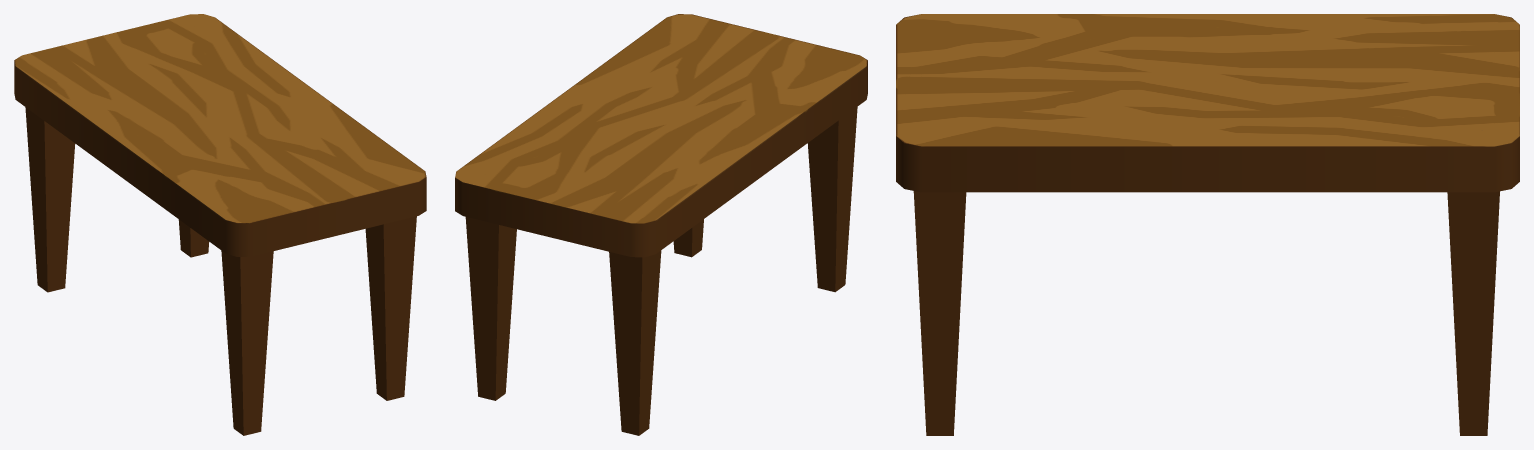
File: Table.fbx
3 renders of one model, left to right at view 1: azimuth 30°, elevation 25°; view 2: azimuth 150°, elevation 25°; view 3: azimuth 270°, elevation 25°, orthographic. The views are drawn at different scales.
Visible parts, largest first — view 1: Box021; view 2: Box021; view 3: Box021.
Part boxes in pixels (left/top/right/bottom): Box021: left=14, top=14, right=426, bottom=435; Box021: left=455, top=14, right=867, bottom=435; Box021: left=896, top=14, right=1519, bottom=435.
Bounding box in the file's own units: 18.61 × 19.78 × 37.
1 material, 1 textured.
